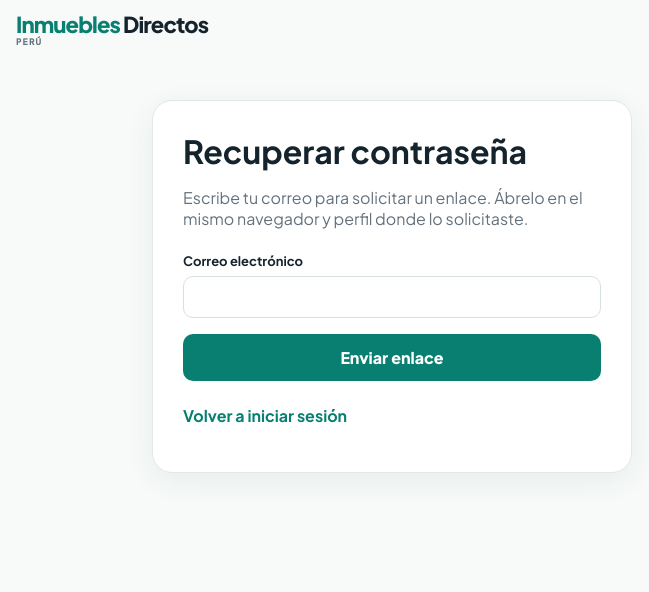
Test case: recovery request isolation and enumeration › uses identical neutral copy for unknown-account
Type "unknown@example.test" into the field labelled "Correo electrónico" at x=392, y=297, box [183, 276, 601, 318]
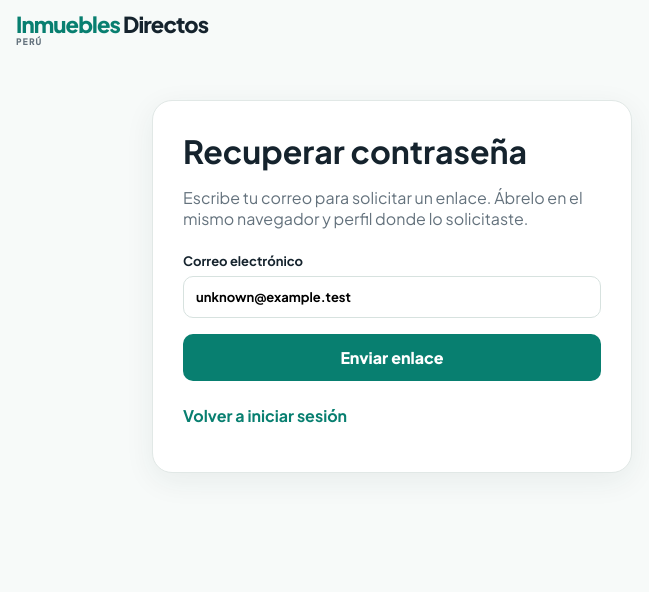
Submit the form labelled "Correo electrónico", box [183, 253, 601, 381]
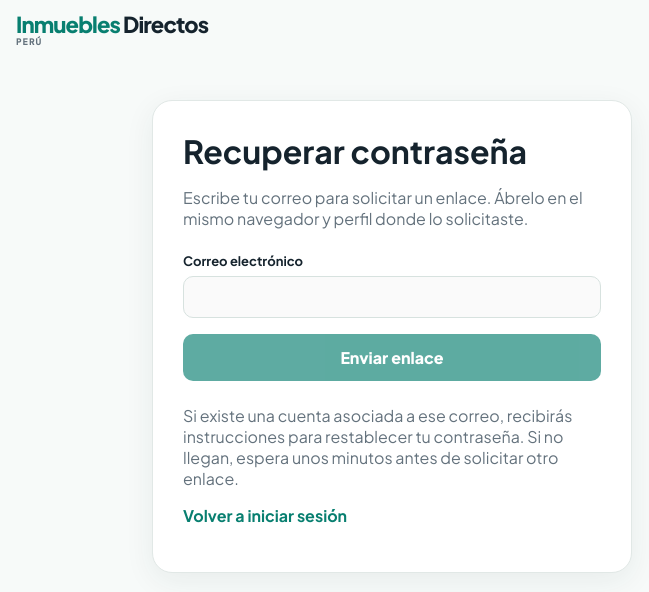
Check: the message shows "Si existe una cuenta asociada a ese correo, recibirás instrucciones para restablecer tu contraseña. Si no llegan, espera unos minutos antes de solicitar otro en", box [183, 405, 572, 489]
